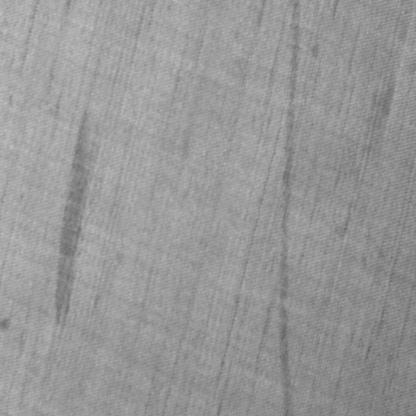oil spot: (278, 0, 304, 411), (52, 107, 98, 330)
